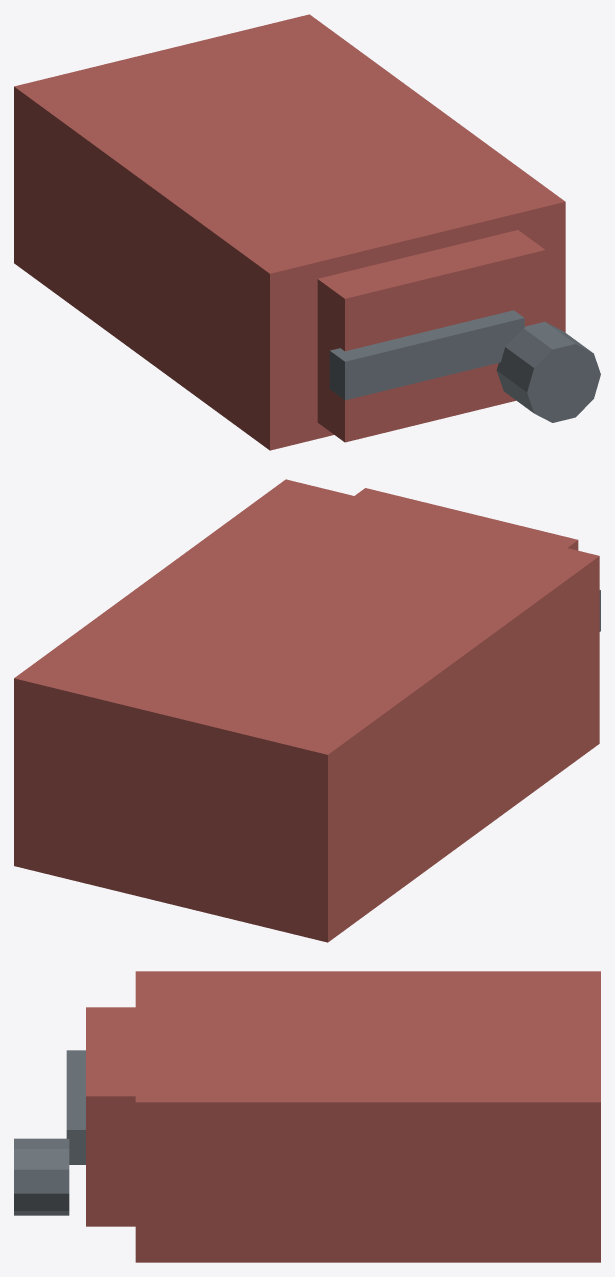
The model's file is gas_can.glb.
The picture shows the model from 3 angles, top to bottom: view 1: azimuth 30°, elevation 25°; view 2: azimuth 150°, elevation 25°; view 3: azimuth 270°, elevation 25°; orthographic projection. The views are drawn at different scales.
Parts seen in each view (by area): view 1: 00_jerrycan, 01_shoulder, 03_handle, 02_cap; view 2: 00_jerrycan, 01_shoulder; view 3: 00_jerrycan, 01_shoulder, 02_cap, 03_handle.
Boxes of the visible parts, <box> form: 00_jerrycan: <box>14,14,565,450</box>; 01_shoulder: <box>317,230,545,442</box>; 03_handle: <box>329,310,524,400</box>; 02_cap: <box>496,321,600,422</box>; 00_jerrycan: <box>14,479,599,942</box>; 01_shoulder: <box>355,488,578,550</box>; 00_jerrycan: <box>135,971,600,1262</box>; 01_shoulder: <box>86,1007,135,1226</box>; 02_cap: <box>14,1138,69,1215</box>; 03_handle: <box>66,1050,85,1164</box>.
Bounding box in the file's own units: 0.28 × 0.167 × 0.53.
